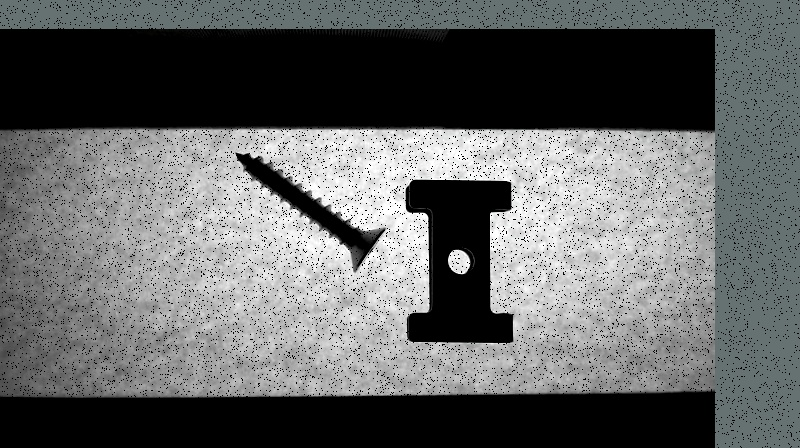O002: (401, 175, 519, 346)
S001: (230, 145, 389, 274)
